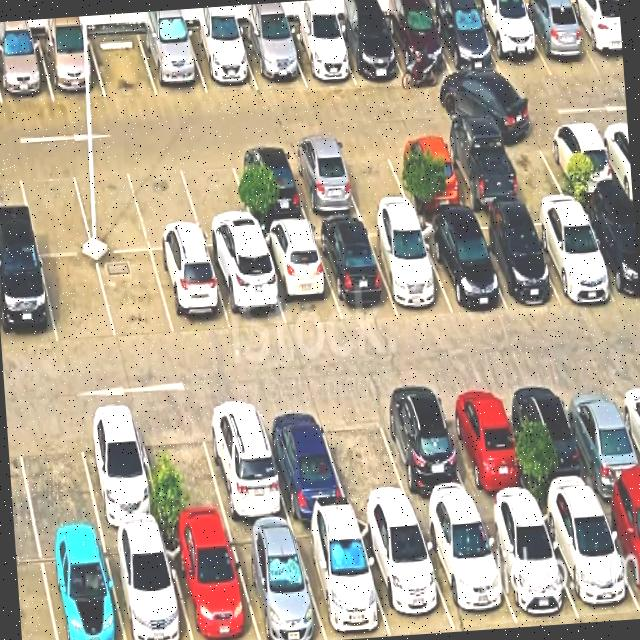empty: (316, 396, 413, 513), (136, 409, 228, 530), (13, 413, 100, 538), (177, 150, 257, 246), (70, 159, 149, 252), (127, 156, 204, 249), (96, 250, 174, 340), (17, 162, 92, 255), (40, 255, 116, 344), (497, 124, 572, 200), (334, 140, 411, 214), (88, 30, 157, 97)
occupied: (538, 497, 640, 623), (374, 389, 475, 513), (477, 505, 579, 624), (416, 509, 516, 630), (292, 518, 390, 640), (437, 384, 533, 507), (355, 516, 454, 635), (198, 399, 290, 525), (227, 524, 326, 640), (507, 379, 597, 502), (257, 400, 349, 519), (163, 527, 259, 640), (75, 410, 163, 532), (559, 377, 640, 496), (103, 531, 191, 640), (524, 202, 616, 302), (38, 535, 124, 640), (468, 212, 559, 309), (417, 216, 507, 314), (258, 226, 341, 328), (312, 222, 397, 320), (364, 219, 452, 313), (151, 248, 231, 335), (206, 245, 286, 330), (439, 130, 521, 209), (578, 200, 640, 304), (230, 147, 308, 226), (284, 143, 361, 220), (473, 7, 551, 81), (387, 135, 466, 208), (517, 5, 598, 75), (0, 253, 57, 349), (546, 121, 620, 194), (382, 10, 454, 84), (597, 491, 640, 614), (429, 9, 503, 80), (333, 17, 405, 85), (186, 28, 257, 93), (37, 34, 105, 101), (138, 29, 207, 95), (284, 23, 355, 86), (239, 26, 305, 89), (566, 1, 623, 71), (0, 37, 53, 104)
